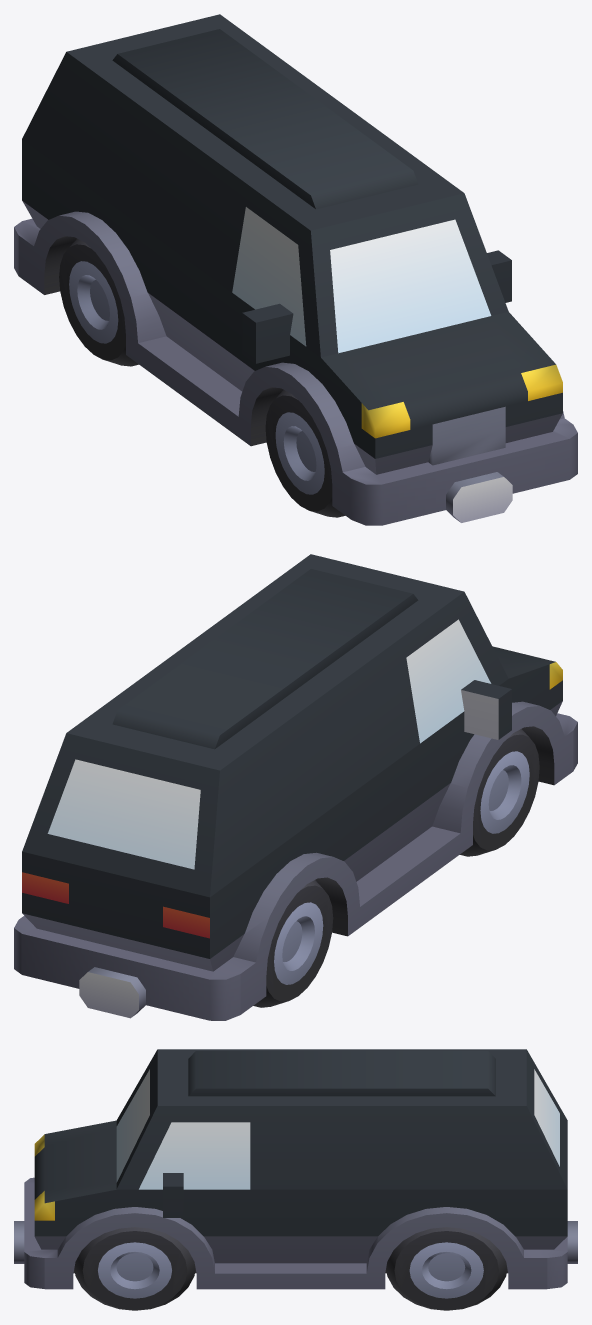
The model's file is van-charcoal.glb.
3 views of the same model, one above another, from view 1: azimuth 30°, elevation 25°; view 2: azimuth 150°, elevation 25°; view 3: azimuth 270°, elevation 25° (orthographic). The views are drawn at different scales.
Visible parts, largest first — view 1: van; view 2: van; view 3: van.
Part boxes in pixels (left/top/right/bottom): van: left=14, top=14, right=577, bottom=525; van: left=14, top=554, right=577, bottom=1020; van: left=14, top=1049, right=577, bottom=1310.
Size of the model in its own units: 1.98 by 2.05 by 5.
1 material, 1 textured.
